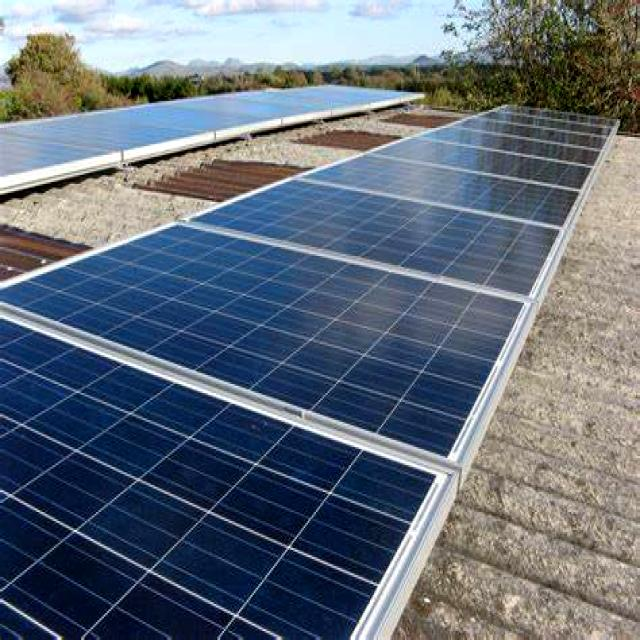crack: (3, 174, 550, 484), (204, 139, 584, 334), (294, 138, 604, 246)
